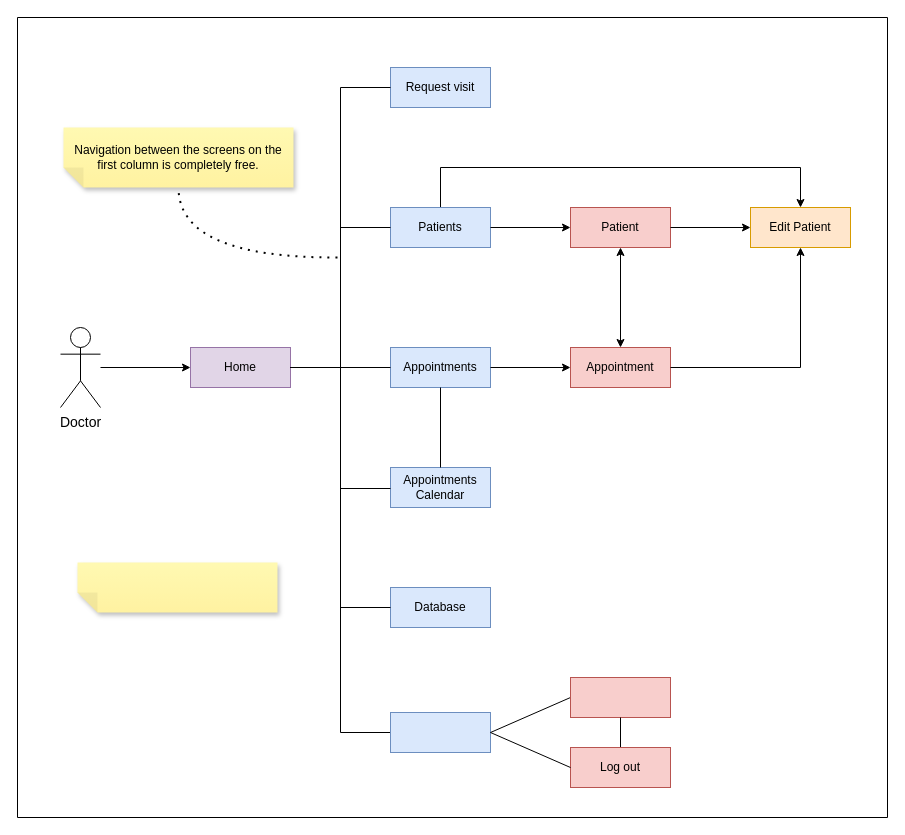
This 905x835 diagram has some shape labels left out. Each missing label, with the centre of its shape:
"Change password" belongs at point (620, 697).
"Profile" belongs at point (440, 732).
"You can go back on any screen." belongs at point (178, 588).
